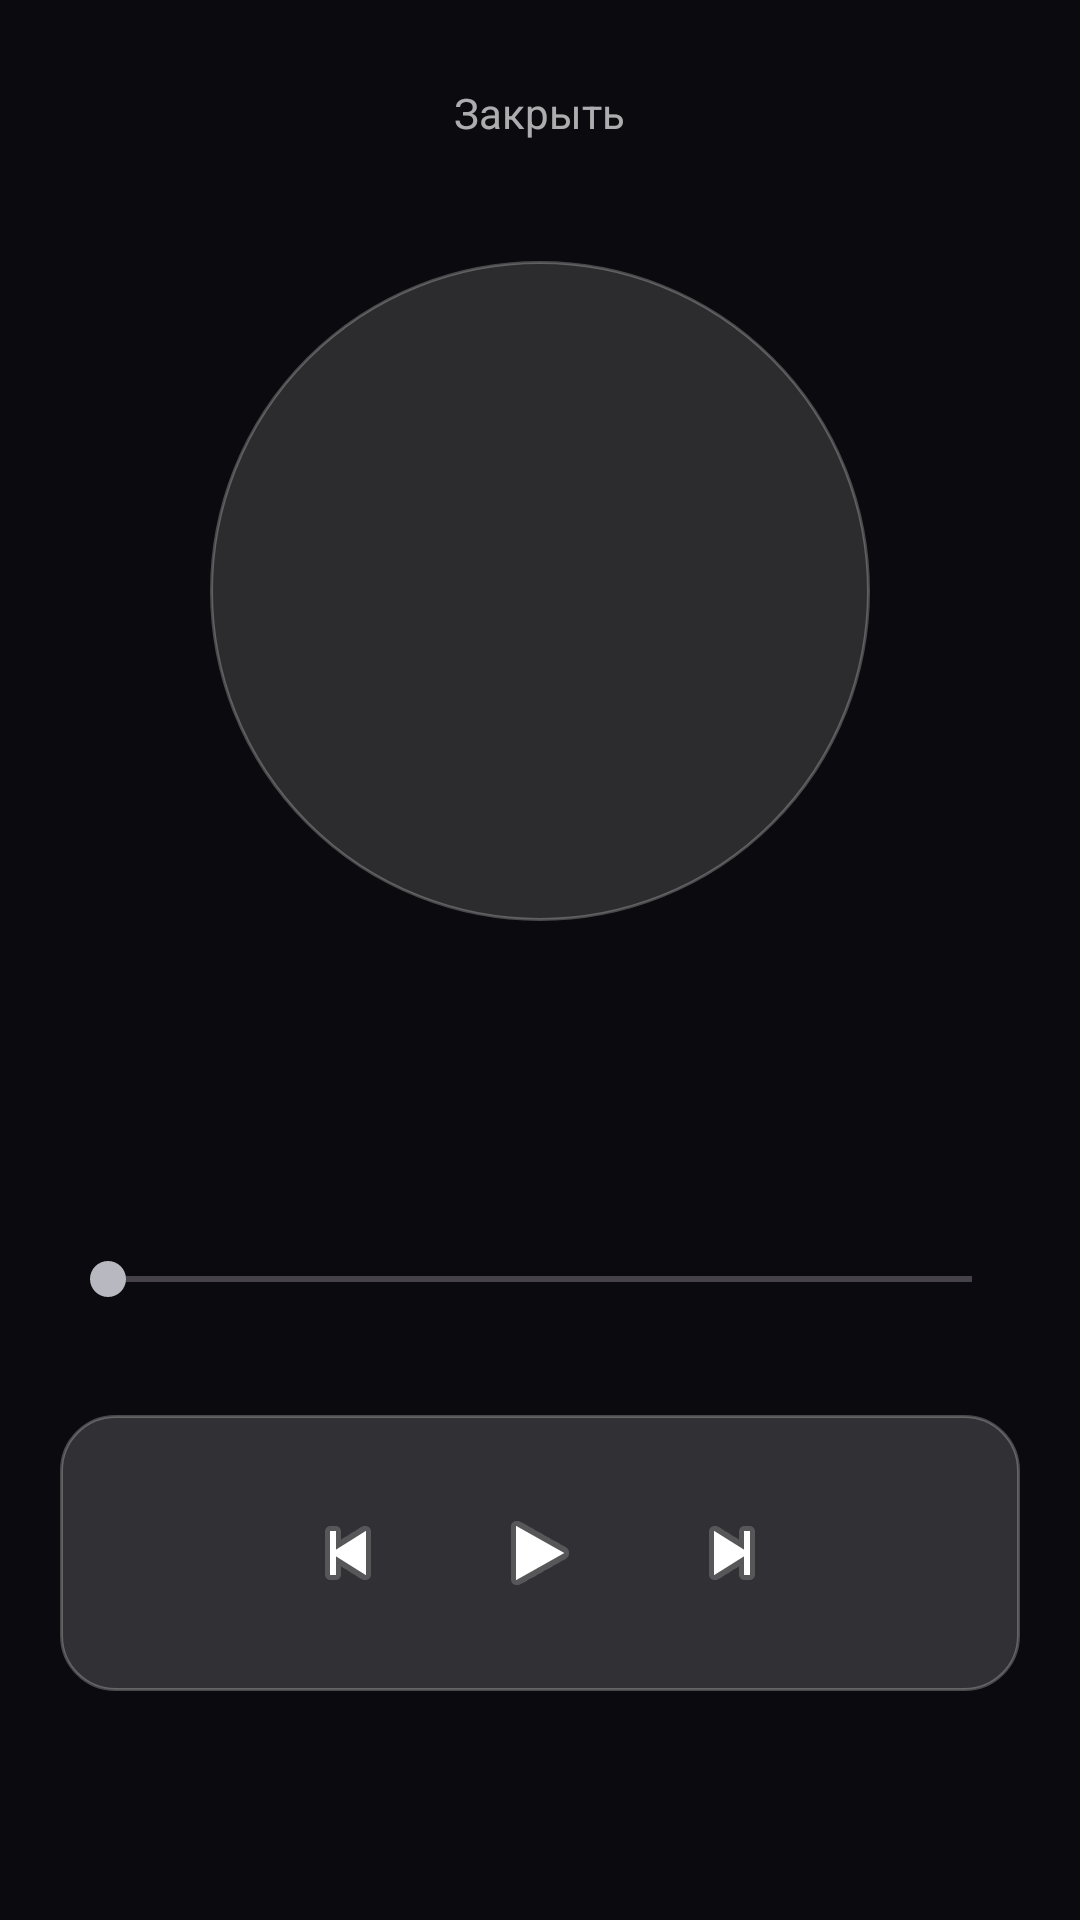

Screen size 1080 x 1920. Icon name, then its center in pixels as (x=x, y=y):
next: (x=732, y=1553)
play: (x=540, y=1553)
previous: (x=348, y=1553)
